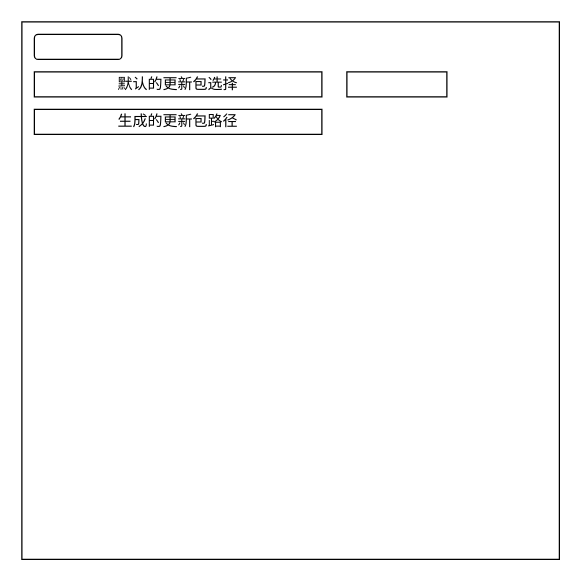
Some shapes in this 581 by 581 pixel diagram are drawn without their labels. Here are the shapes that lost their labels. From the top down, the box of each, then its label:
(33, 33, 122, 59): 项目下拉框
(346, 71, 447, 97): 生成
